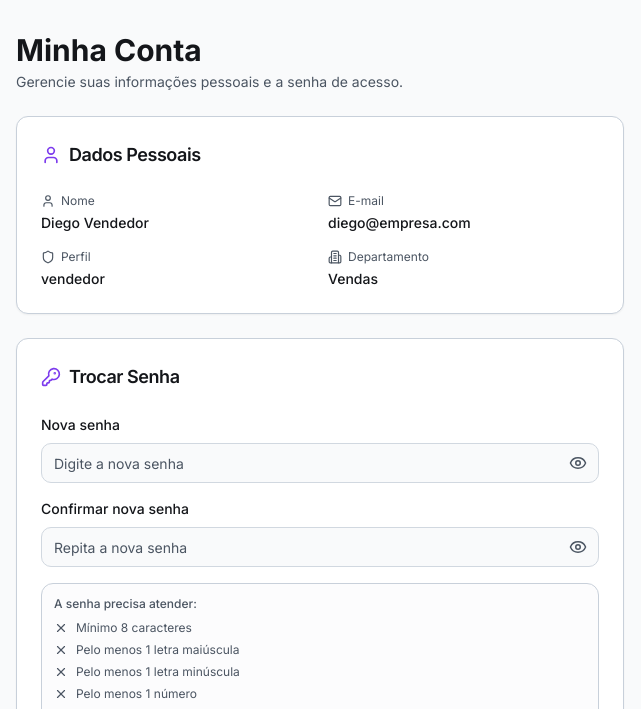
Test: MinhaConta — validação em tempo real › marca critérios como atendidos conforme o user digita uma senha forte
The width and height of the screenshot is (641, 709).
Step 1. Type "Senha@123" into the password field labelled "Nova senha" → [320, 463], box left=41, top=443, right=599, bottom=483
(page scrolled)
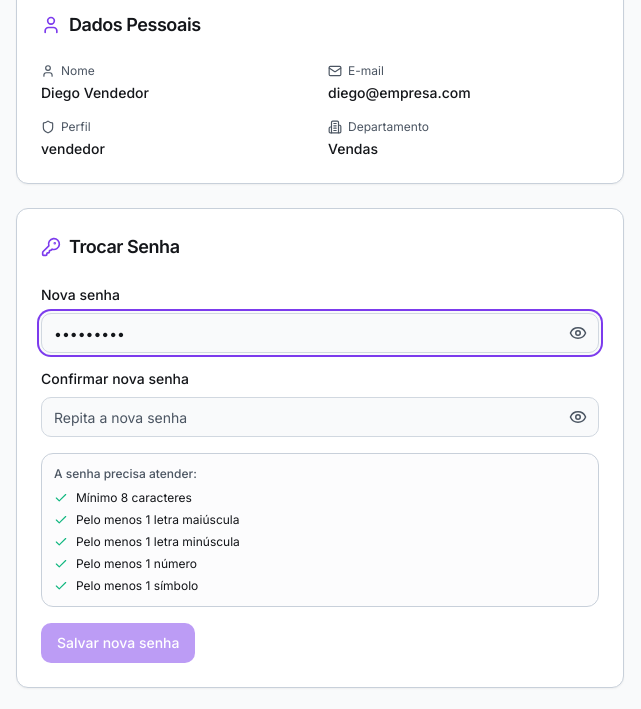
Expected: the list item with test id "criterion-minLength" has attribute data-met="true", left=54, top=490, right=192, bottom=505
Expected: the list item with test id "criterion-uppercase" has attribute data-met="true", left=54, top=512, right=240, bottom=527
Expected: the list item with test id "criterion-lowercase" has attribute data-met="true", left=54, top=534, right=240, bottom=549
